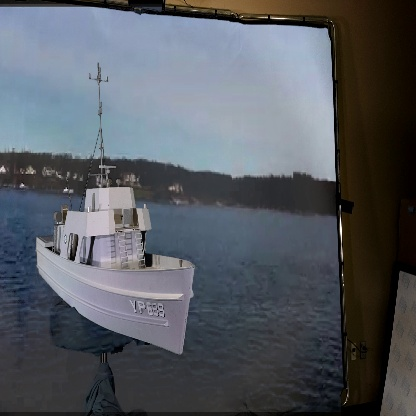YP689: (35, 61, 196, 356)
